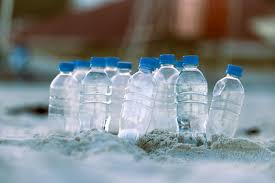Botella: (47, 53, 243, 140)
